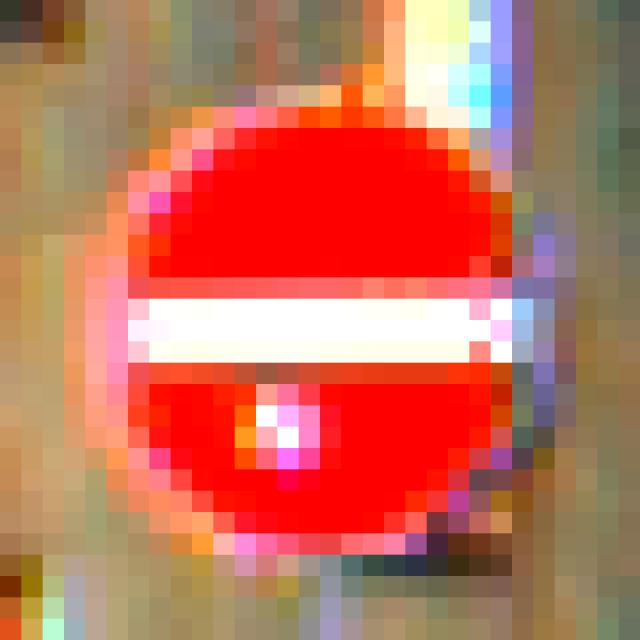No Entry: (129, 108, 534, 534)
